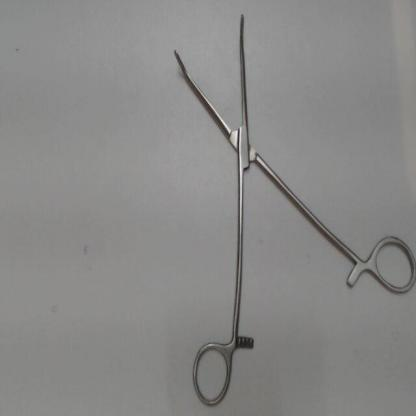Lahey Forceps: (162, 3, 416, 411)
